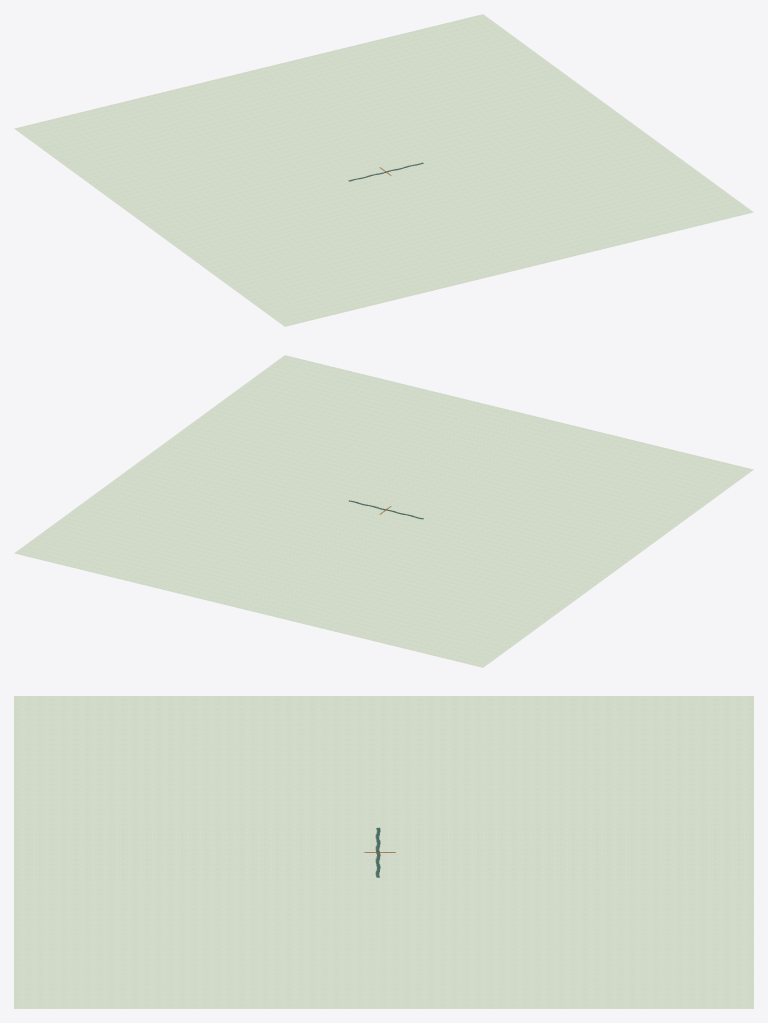
File: river-crossing.glb
3 views of the same model, one above another, from view 1: azimuth 30°, elevation 25°; view 2: azimuth 150°, elevation 25°; view 3: azimuth 270°, elevation 25° (orthographic). The views are drawn at different scales.
Visible parts, largest first — view 1: crossing_River_landscape; view 2: crossing_River_landscape; view 3: crossing_River_landscape.
Boxes of the visible parts, box(x1,y1,x2,y2) form: crossing_River_landscape: box(14, 14, 753, 326); crossing_River_landscape: box(14, 355, 753, 667); crossing_River_landscape: box(14, 696, 753, 1008).
Size of the model in its own units: 1000 by 1.87 by 1000.
Materials: 16 (4 with a texture image).
